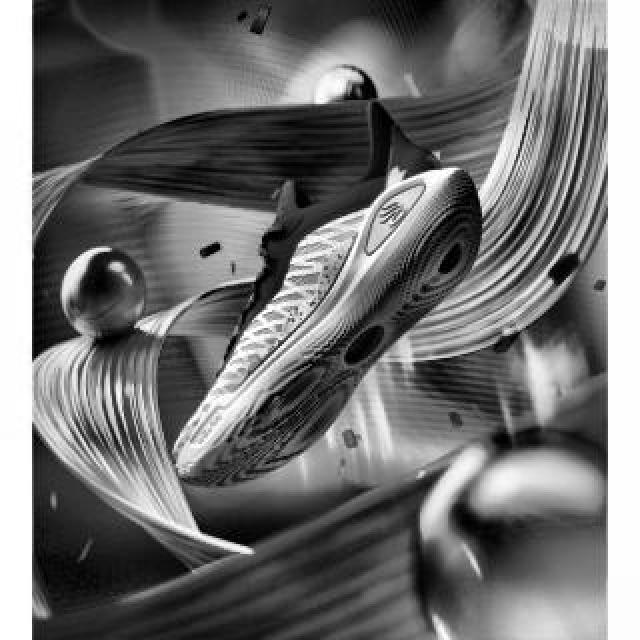shoe: (175, 101, 483, 485)
